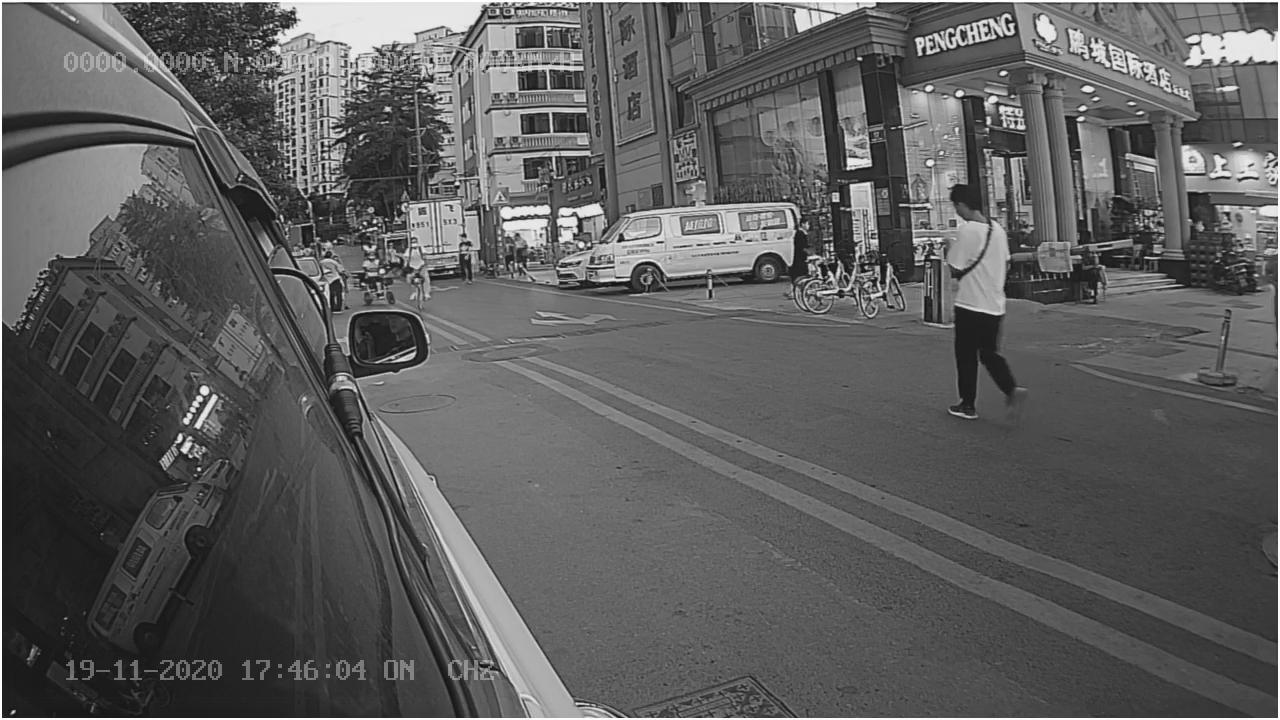person: (933, 176, 1039, 435)
